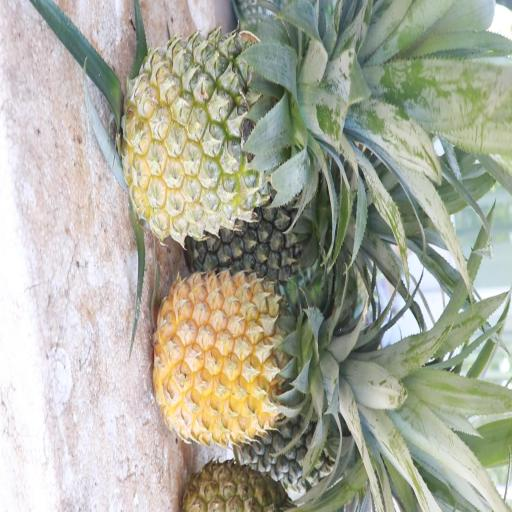------------------------------: (124, 36, 310, 238)
Pineapple - v8 v1: (154, 275, 330, 444)
